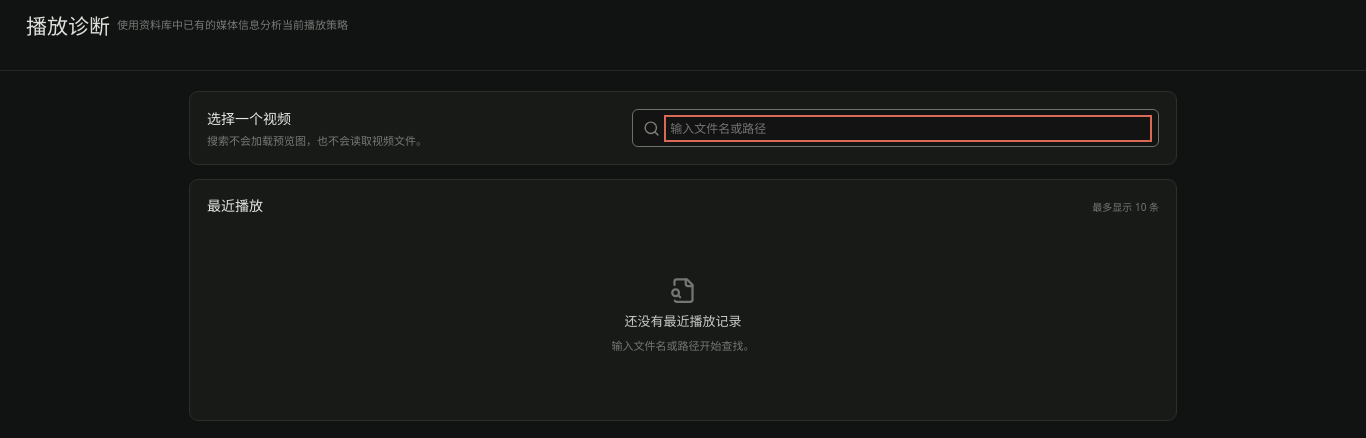
Test: PlaybackDiagnosticPage › shows search errors instead of an empty state and retries only the search
Step 1. Type "clip" into the field with placeholder "输入文件名或路径" → x=908, y=128, box [668,118,1148,138]
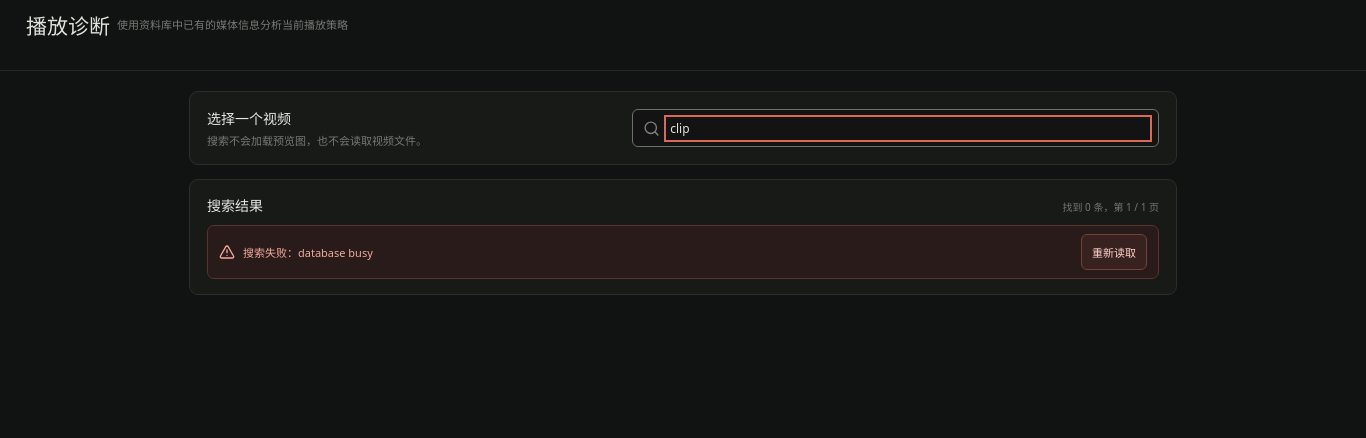
Expected: the message "搜索失败：database busy 重新读取" does not show "hidden-stack", [207,225,1159,279]
Expected: the message "搜索失败：database busy 重新读取" is shown, [207,225,1159,279]
Step 2. Click the button "重新读取" → x=1114, y=252, box [1081,234,1147,270]
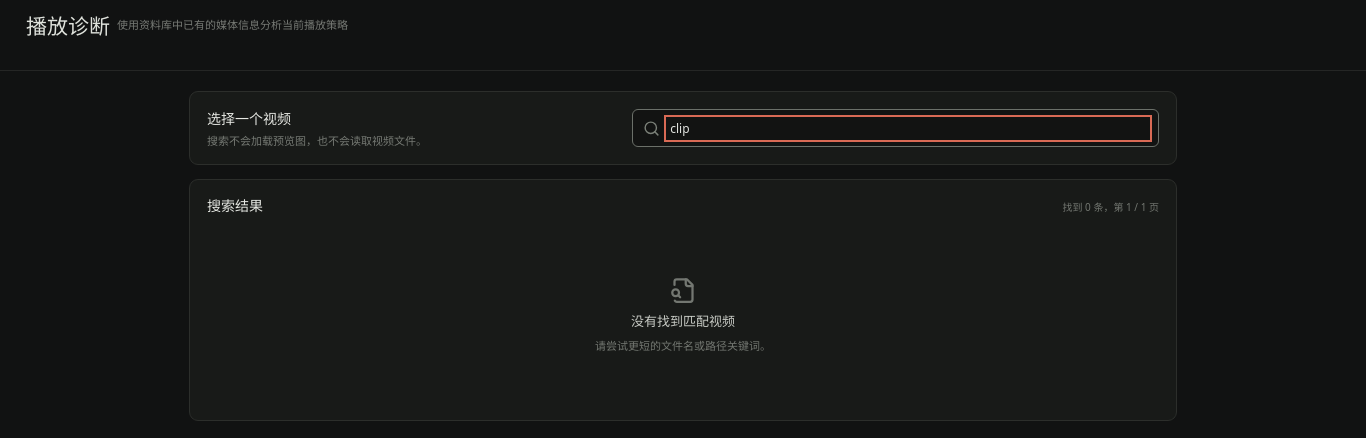
Expected: the text "没有找到匹配视频" is shown, [631,311,735,330]
